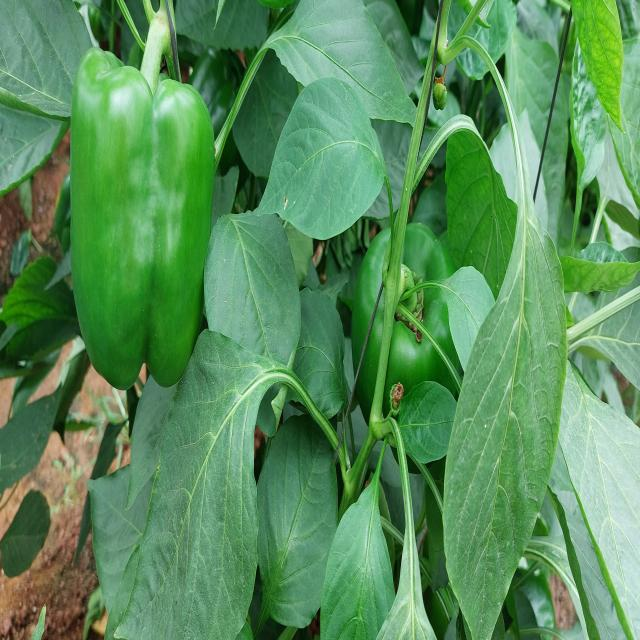Green--Not-ready-to-harvest: (70, 52, 210, 392), (354, 224, 468, 472)
